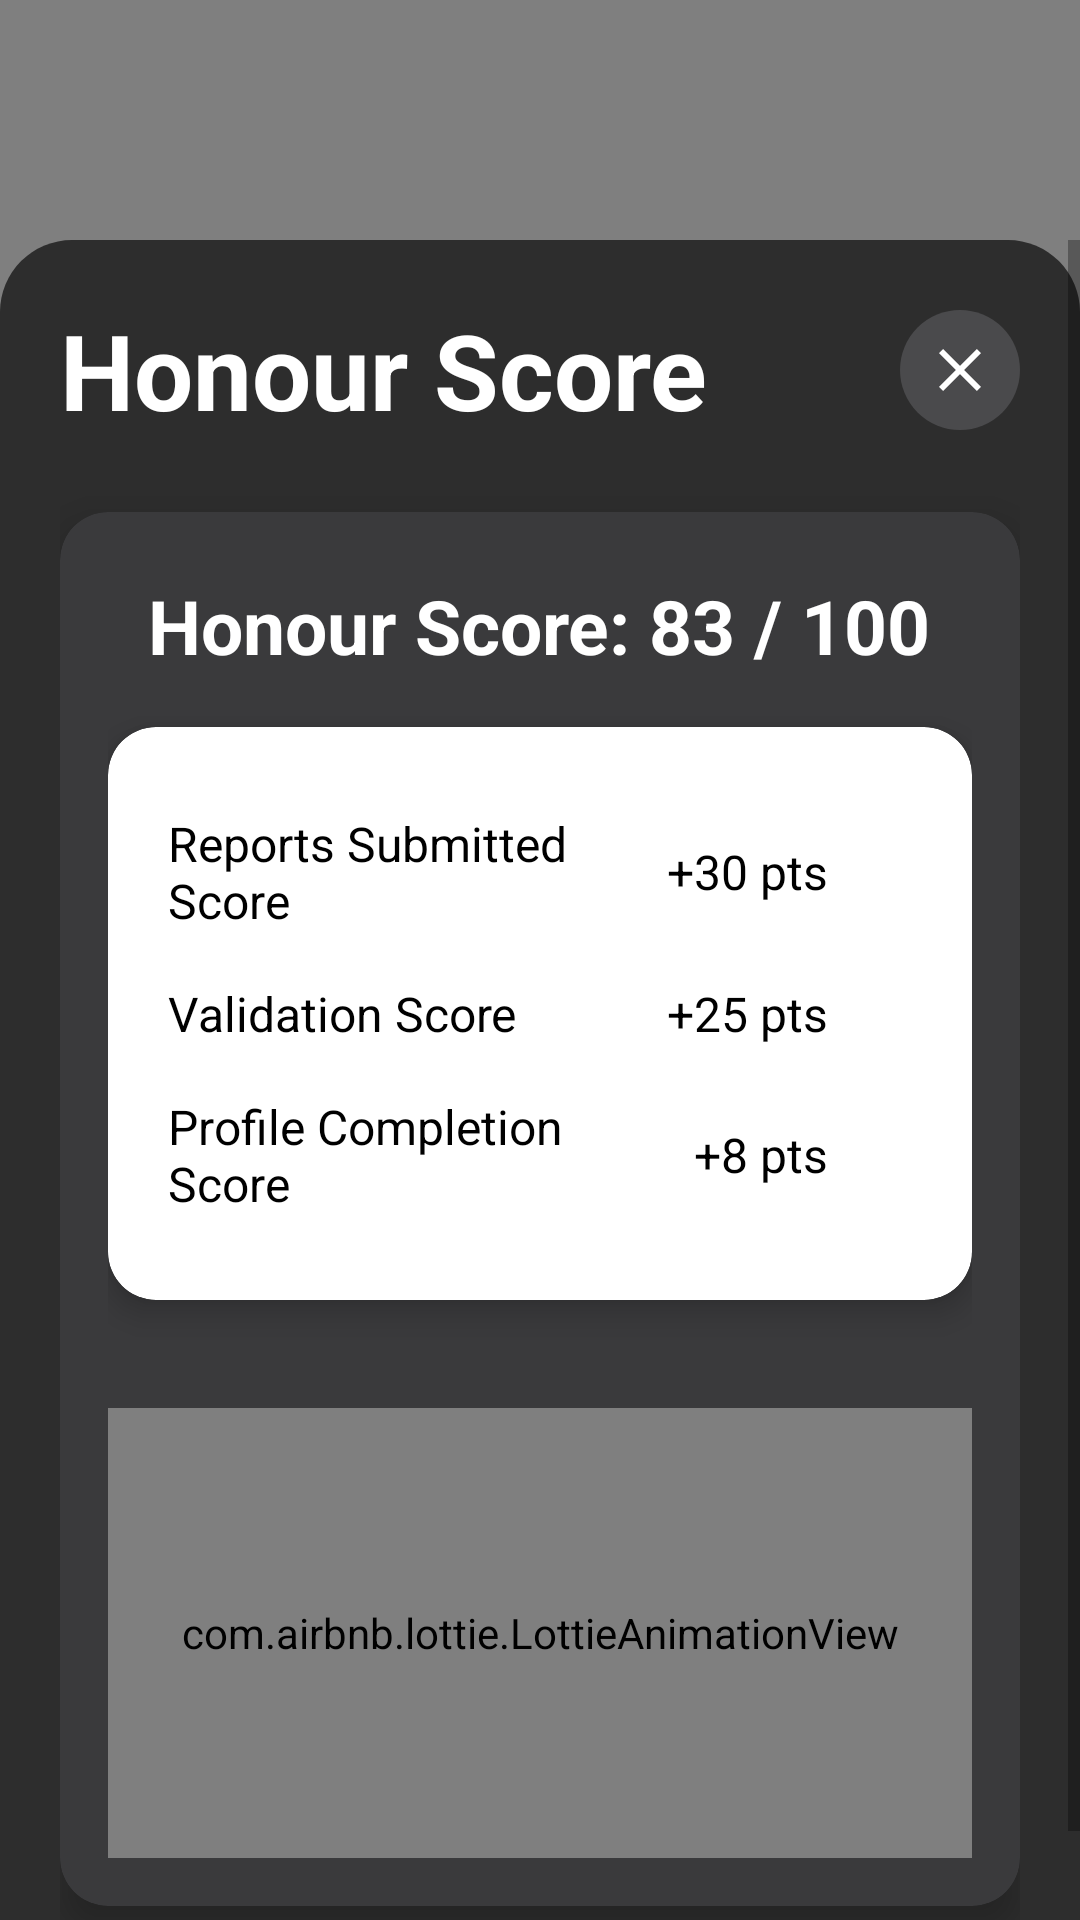

Icons on this 1080*1920 Android screen, each with the point to tap as point (x, y):
Close: point (960, 370)
